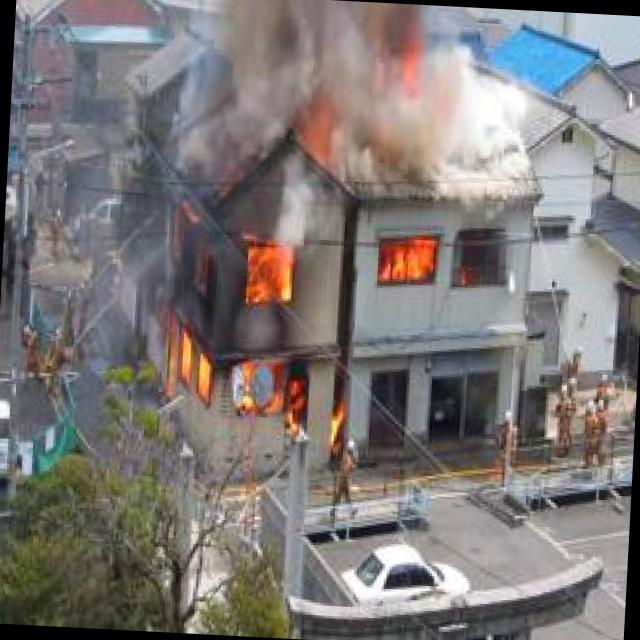Fire: (376, 228, 446, 292), (242, 238, 294, 312), (279, 377, 308, 439), (322, 400, 350, 462), (175, 329, 198, 386), (193, 354, 216, 402)
